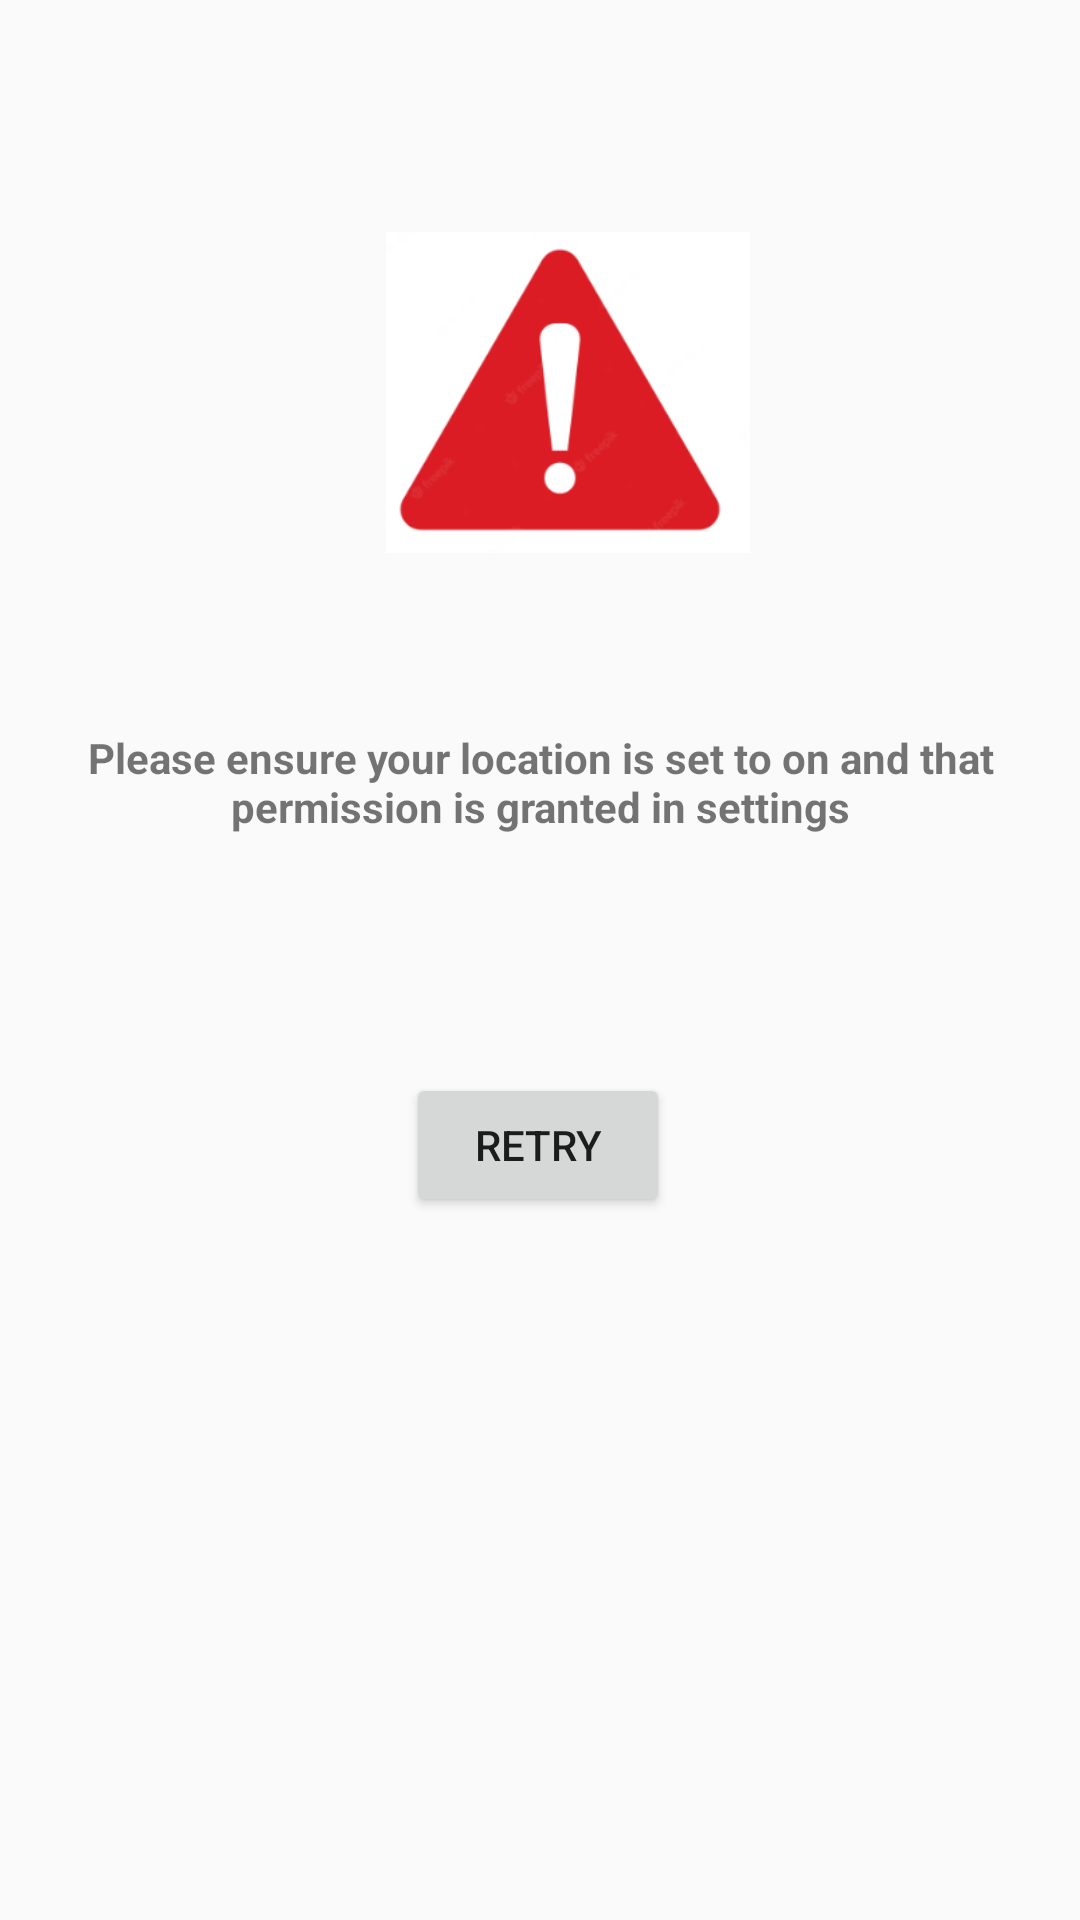

Named icons in this screenshot (1080x1920) and their bounding boxes, (x1, y1, x2, y2):
allert: (399, 249, 721, 531)
